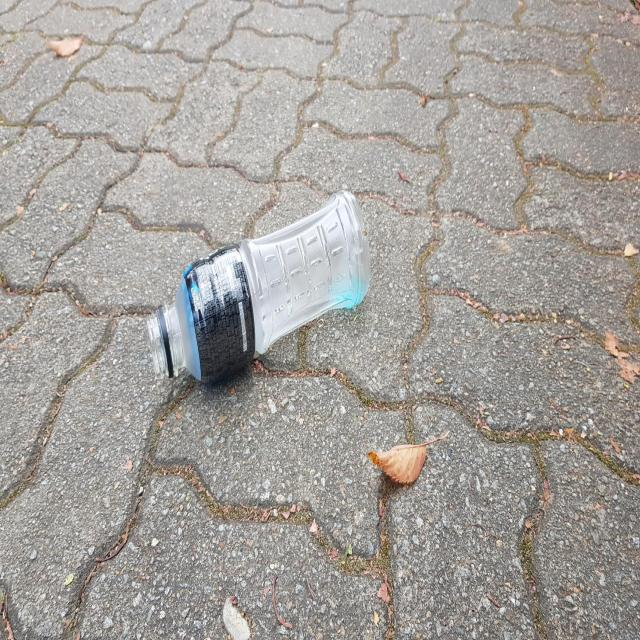plastic: (147, 190, 371, 382)
